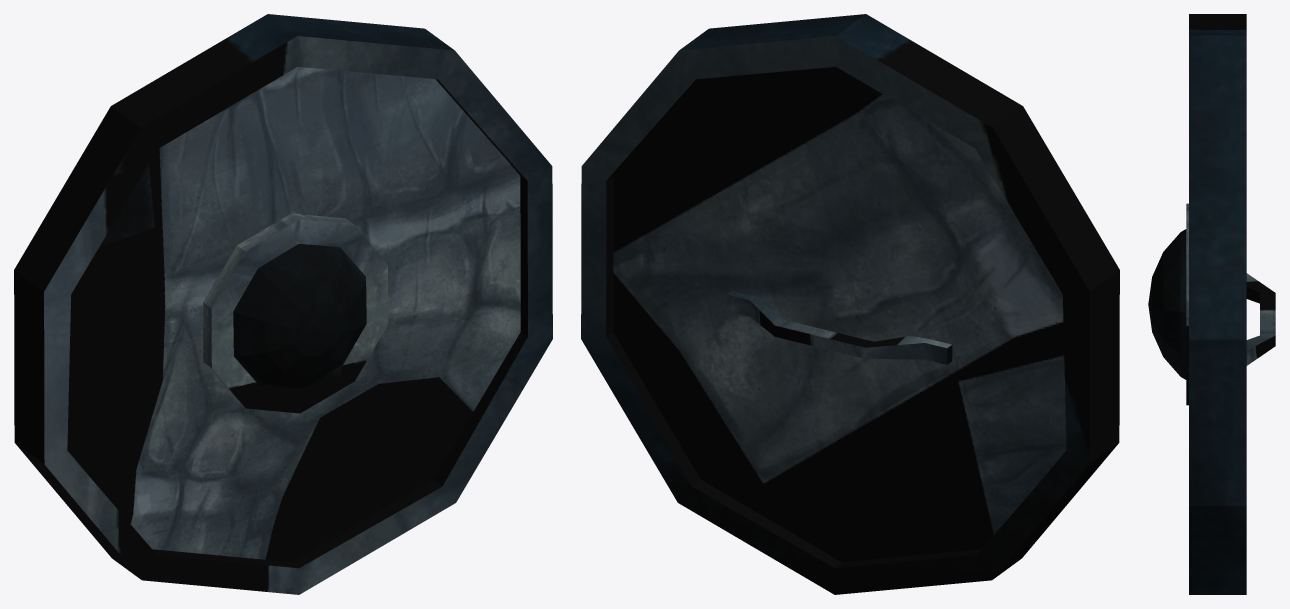
Rendered from Shield.obj.
3 views of the same model, side by side, from view 1: azimuth 30°, elevation 25°; view 2: azimuth 150°, elevation 25°; view 3: azimuth 270°, elevation 25° (orthographic). The views are drawn at different scales.
Parts seen in each view (by area): view 1: Shield1; view 2: Shield1; view 3: Shield1.
Part boxes in pixels (x1,y1,x2,y2): Shield1: (14,14,552,594); Shield1: (581,14,1119,594); Shield1: (1148,14,1275,594).
Size of the model in its own units: 1.79 by 1.88 by 0.4045.
